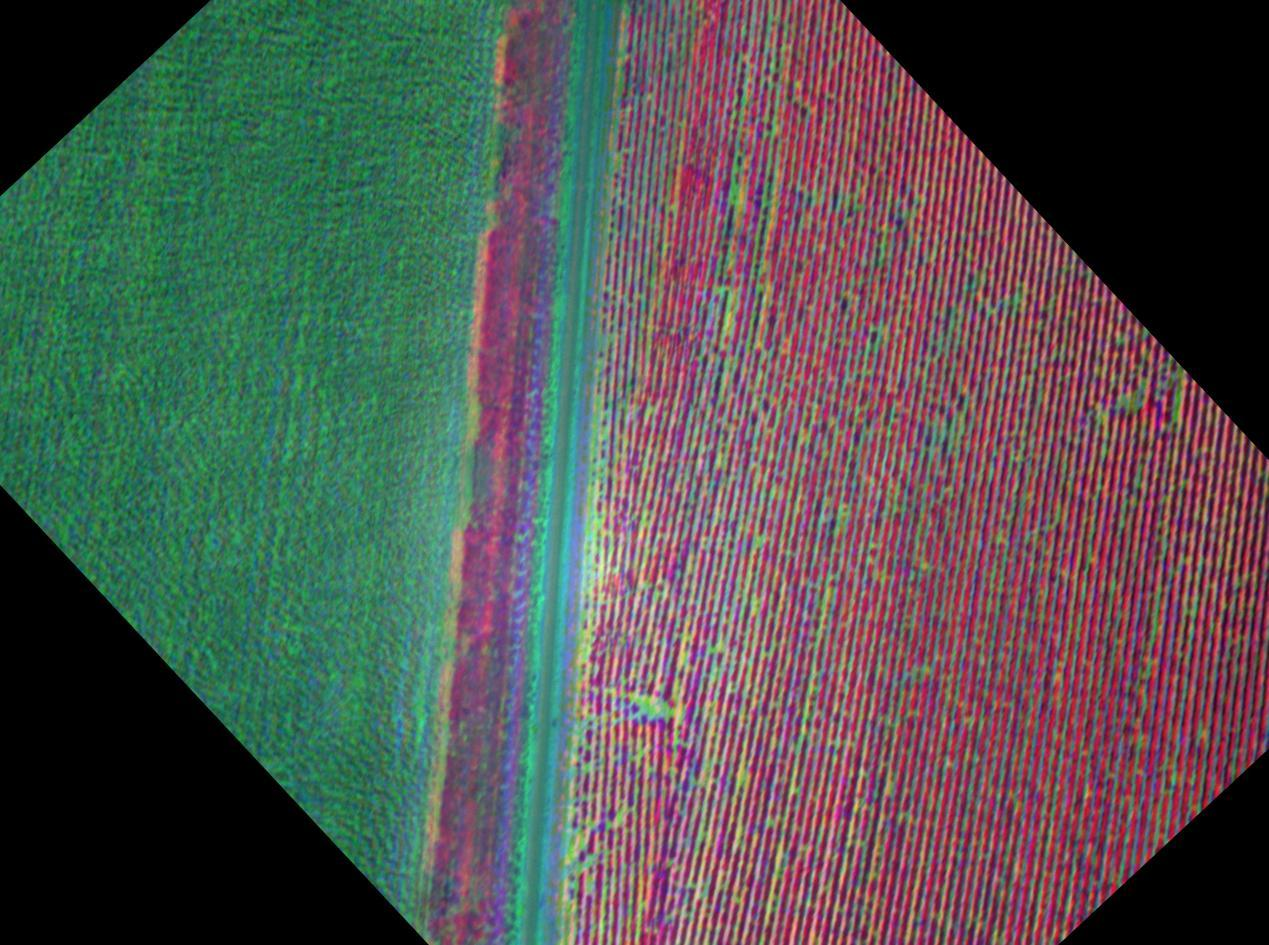dc: (642, 702, 646, 707), (586, 765, 590, 770), (731, 187, 735, 191), (669, 710, 673, 714), (1199, 731, 1203, 735), (867, 347, 870, 351), (1097, 416, 1100, 420), (838, 514, 841, 518), (921, 563, 924, 567), (618, 818, 622, 821), (773, 130, 776, 133)
